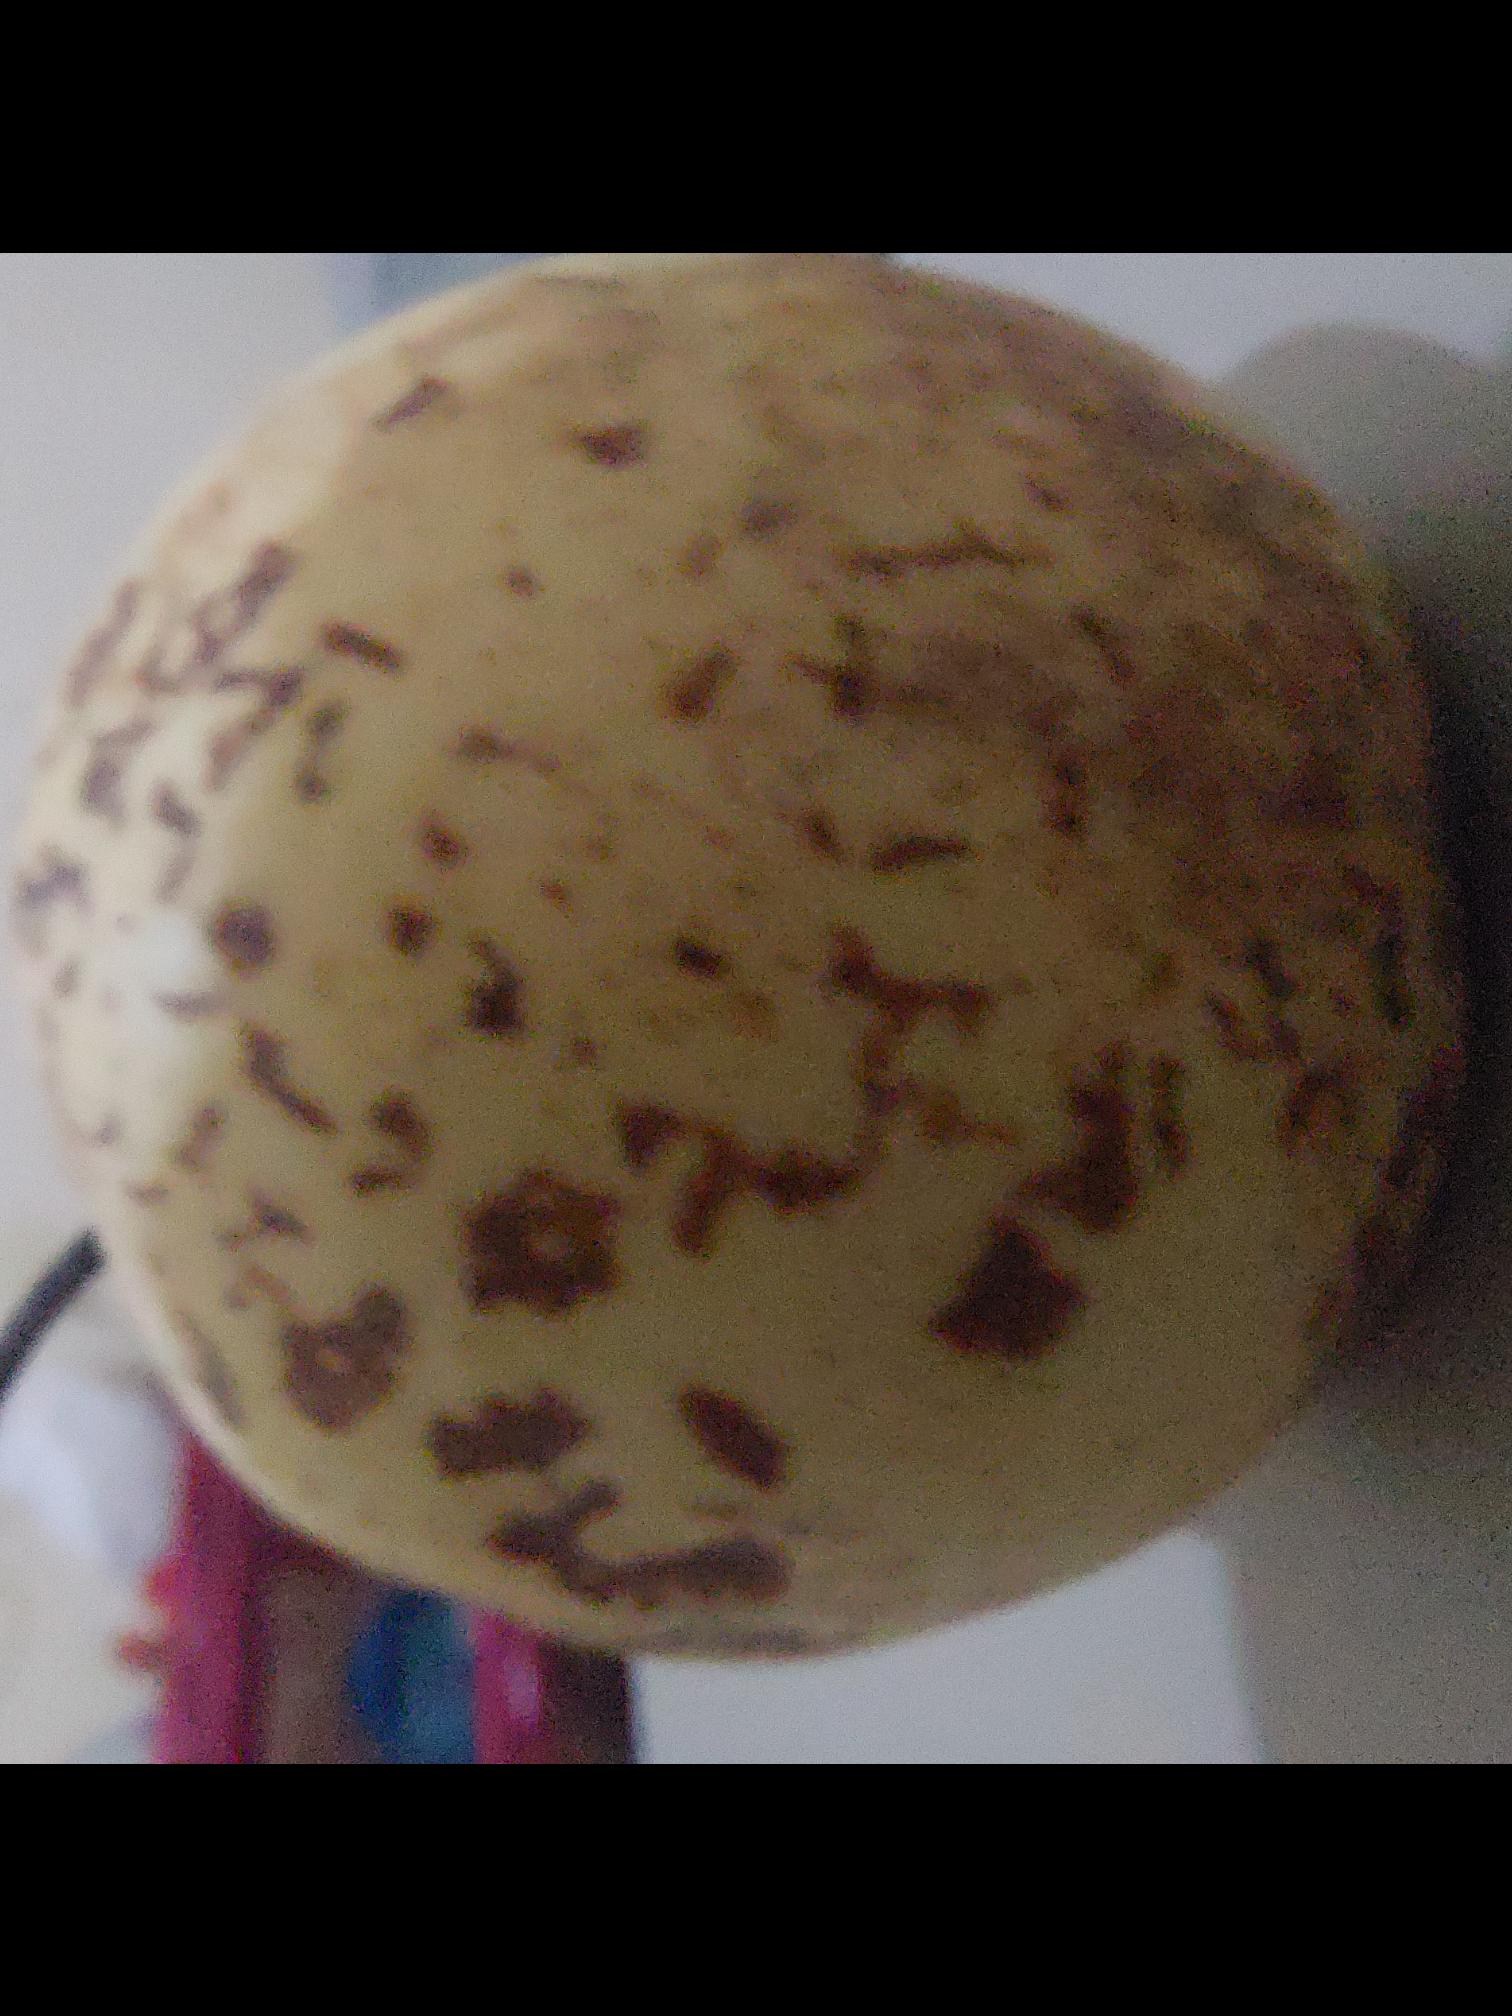Bad Pear: (0, 252, 1483, 1760)
